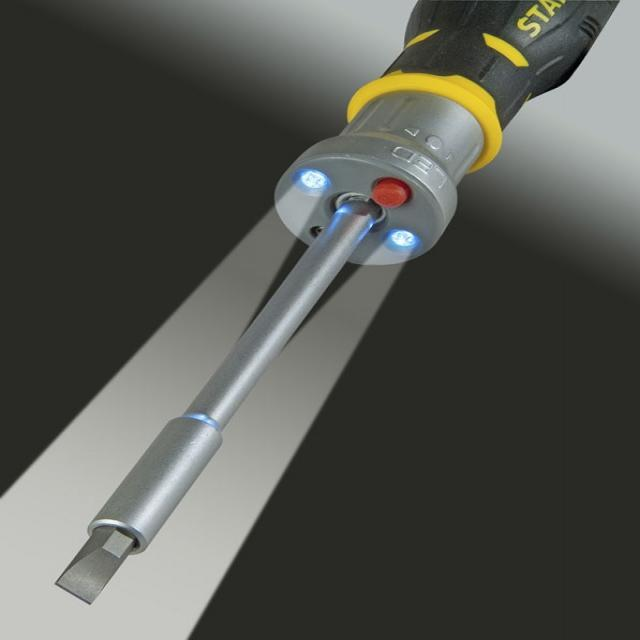screwdriver: (50, 0, 625, 611)
